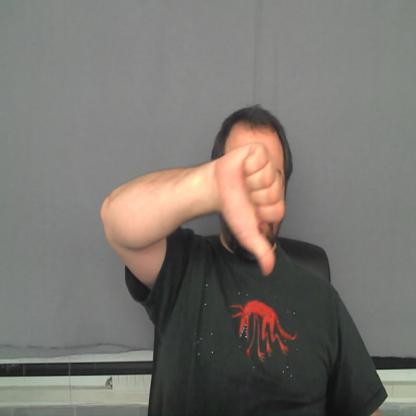thumbs-down: (220, 146, 292, 277)
